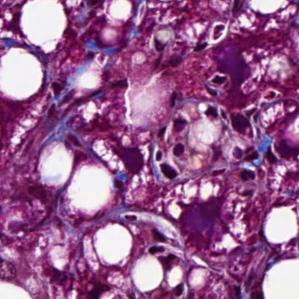inflammation: (107, 129, 179, 185), (225, 128, 289, 181)
